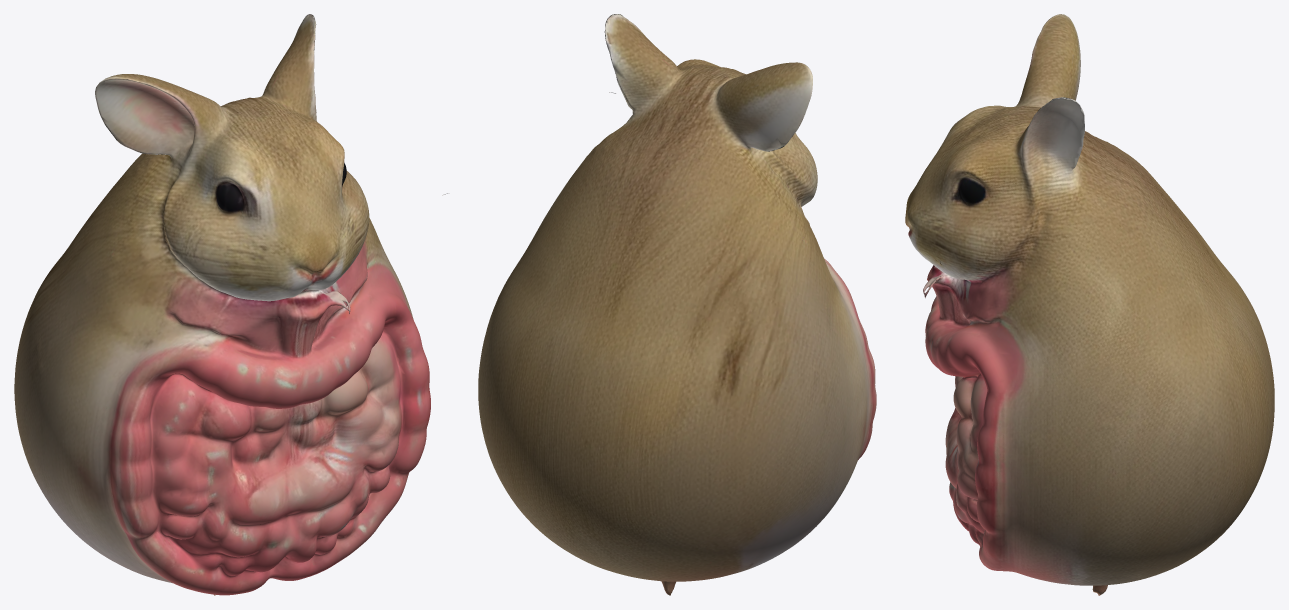
File: gi-stasis-rabbit.glb
3 views of the same model, side by side, from view 1: azimuth 30°, elevation 25°; view 2: azimuth 150°, elevation 25°; view 3: azimuth 270°, elevation 25° (orthographic). The views are drawn at different scales.
Visible parts, largest first — view 1: model; view 2: model; view 3: model.
Boxes of the visible parts, x1,y1,x2,y2 form: model: [14, 14, 447, 595]; model: [478, 14, 876, 595]; model: [905, 14, 1274, 595].
Size of the model in its own units: 1.23 by 1.89 by 1.19.
Materials: 1 (1 with a texture image).
